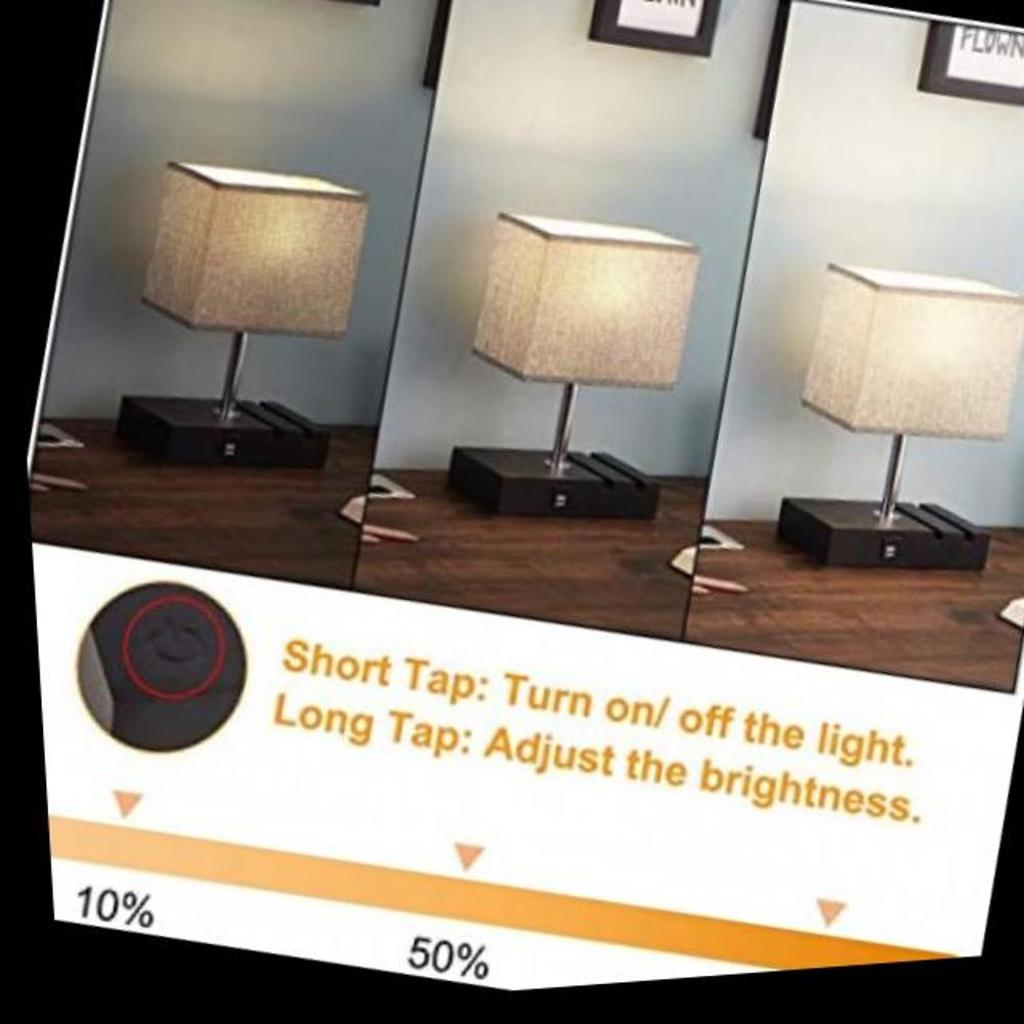shelf: (69, 75, 411, 521), (378, 163, 737, 567), (722, 232, 1024, 621)
